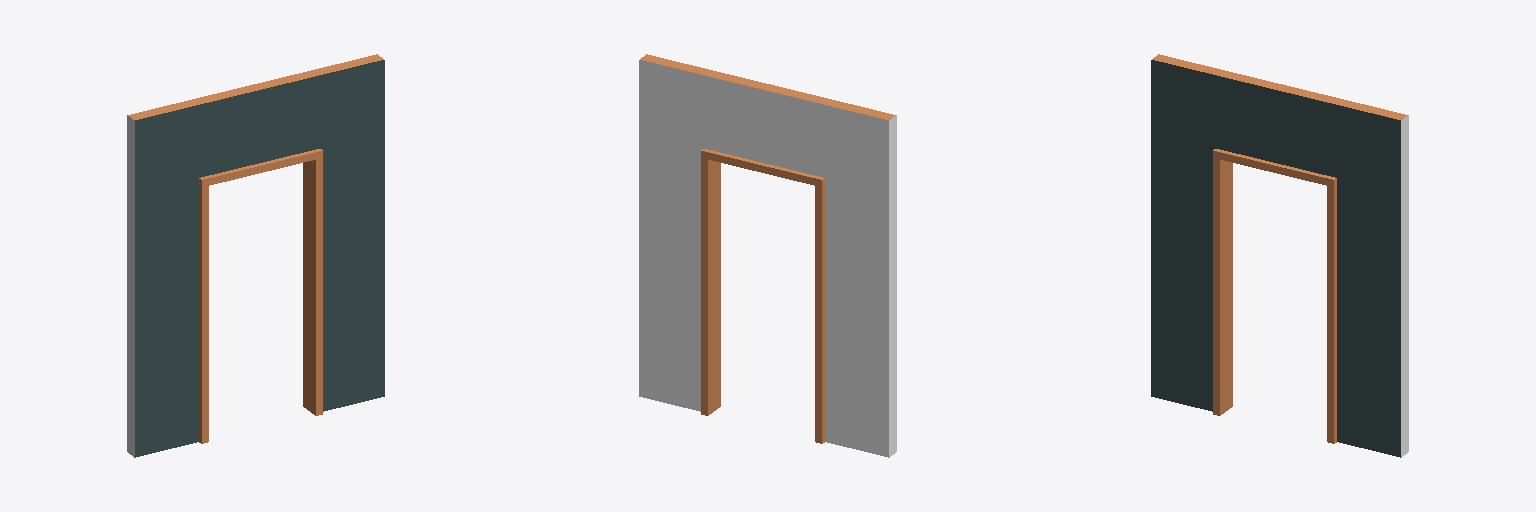
The model's file is wallDoorway.obj.
3 renders of one model, left to right at view 1: azimuth 30°, elevation 25°; view 2: azimuth 150°, elevation 25°; view 3: azimuth 330°, elevation 25°, orthographic.
Visible parts, largest first — view 1: wallDoorway; view 2: wallDoorway; view 3: wallDoorway.
Boxes of the visible parts, box(x1,y1,x2,y2) form: wallDoorway: box(127, 54, 384, 457); wallDoorway: box(639, 54, 896, 457); wallDoorway: box(1151, 54, 1408, 457).
Size of the model in its own units: 1 by 1.29 by 0.0891.